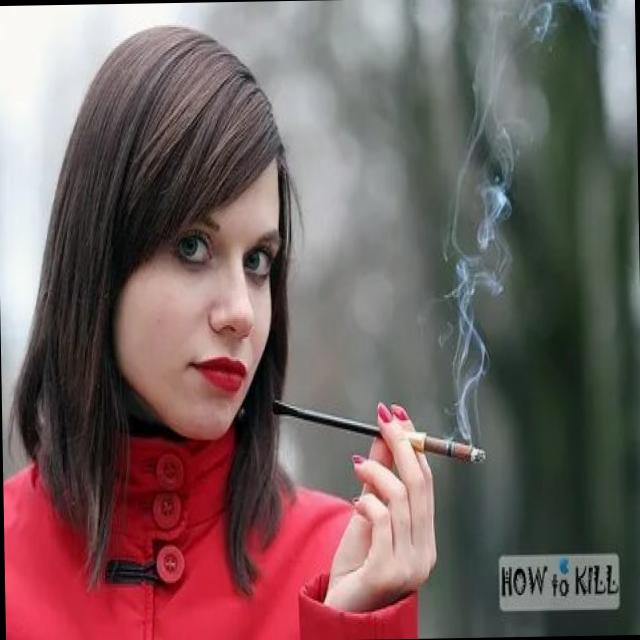smoke: (271, 388, 488, 472)
